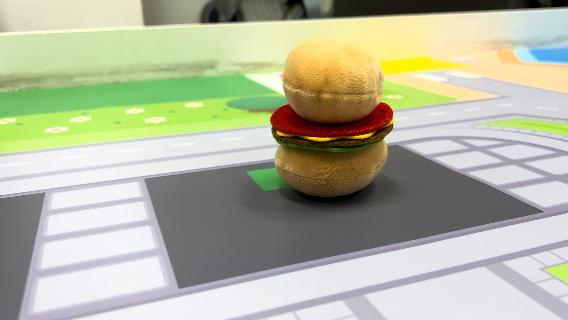burger: (268, 33, 399, 199)
